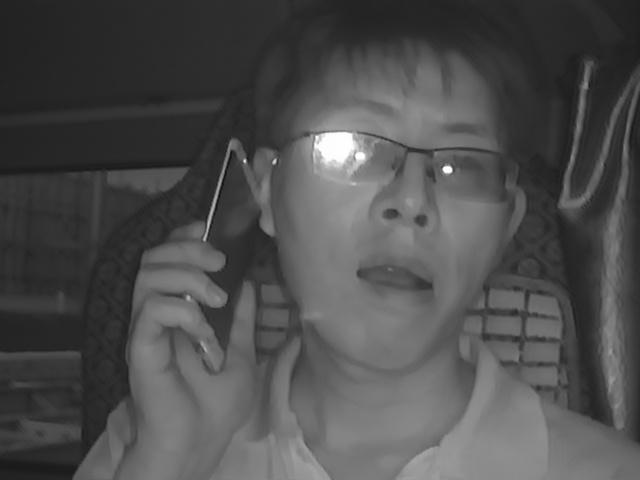hand: (123, 221, 260, 448)
